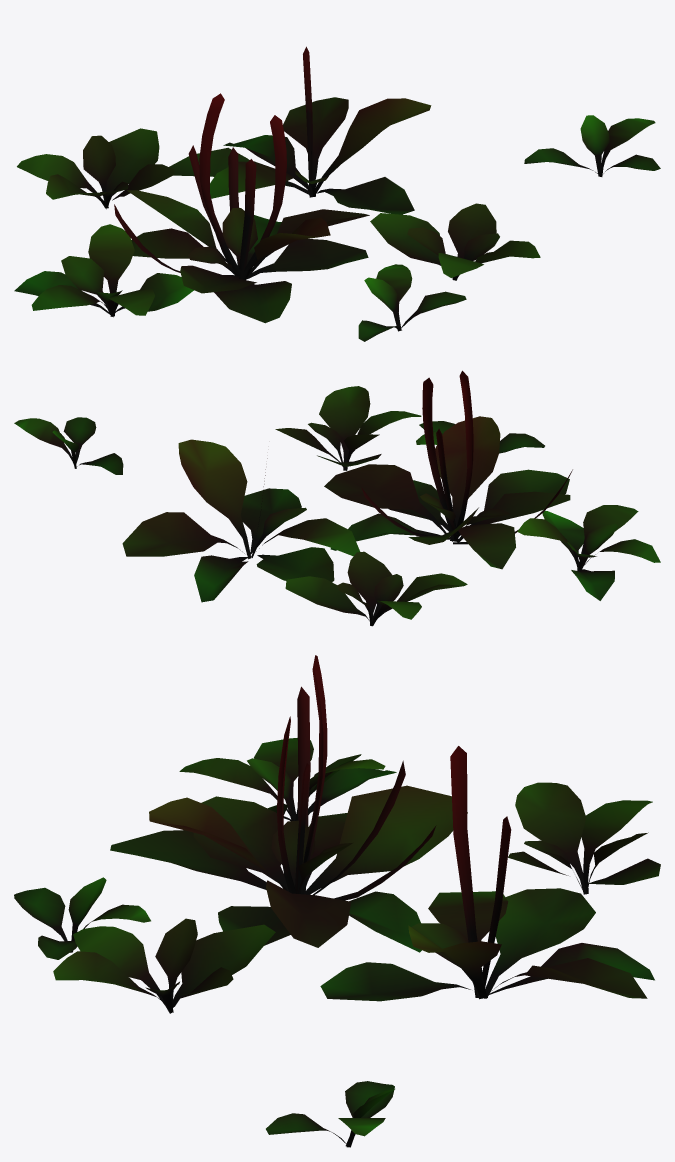
Rendered from Terrain_Grass_01.fbx.
The picture shows the model from 3 angles, top to bottom: view 1: azimuth 30°, elevation 25°; view 2: azimuth 150°, elevation 25°; view 3: azimuth 270°, elevation 25°; orthographic projection. The views are drawn at different scales.
Visible parts, largest first — view 1: SM_Plant_Grass_Plantain_06; view 2: SM_Plant_Grass_Plantain_06; view 3: SM_Plant_Grass_Plantain_06.
Boxes of the visible parts, left/top/right/bottom form: SM_Plant_Grass_Plantain_06: left=14, top=46, right=660, bottom=341; SM_Plant_Grass_Plantain_06: left=14, top=370, right=660, bottom=626; SM_Plant_Grass_Plantain_06: left=14, top=655, right=660, bottom=1147.
Bounding box in the file's own units: 644 × 183 × 429.
